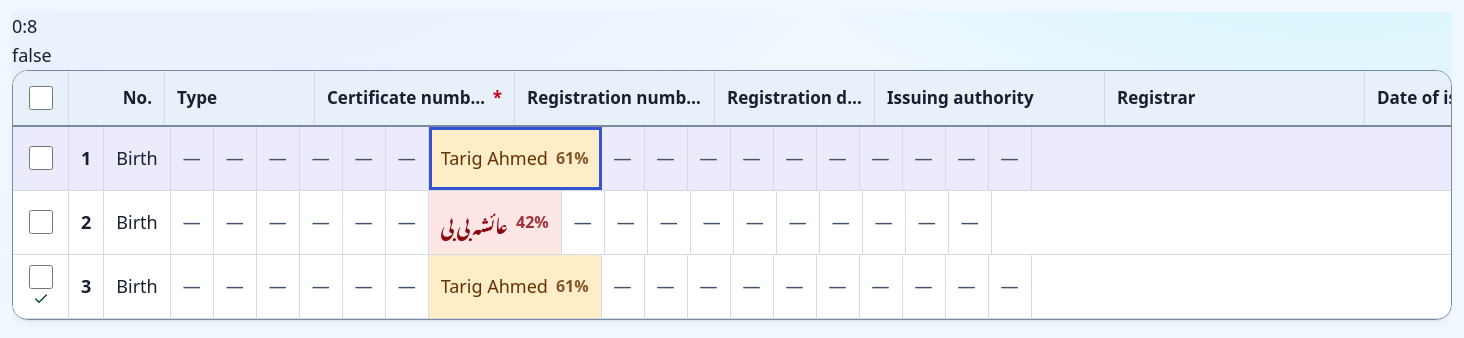
Test: ResultsGrid keyboard › opens the editor on Enter and closes it on Escape without saving
Press Enter in the table
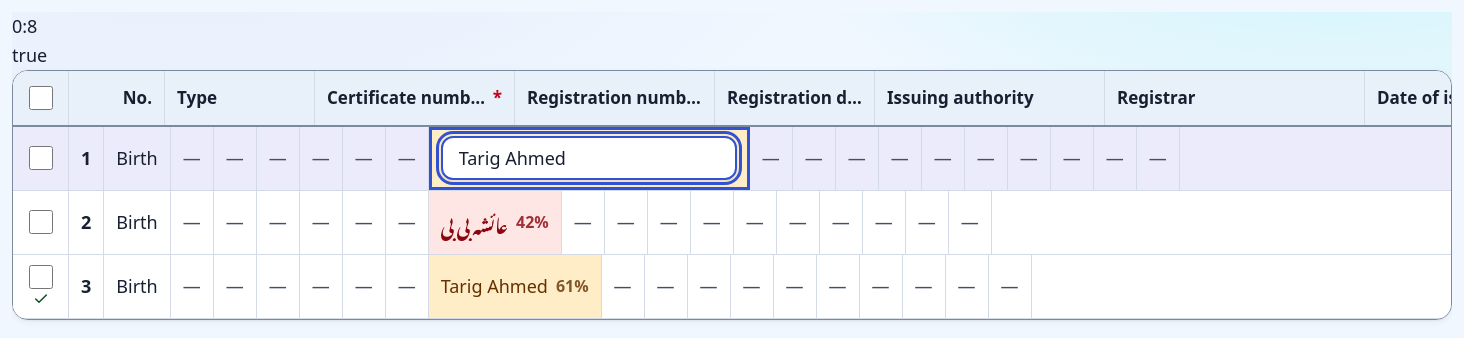
Check: the text with test id "editing" reads "true", box [12, 43, 47, 67]
Replace the text in the field with "Tariq Ahmed" at (589, 158), box [441, 136, 737, 180]
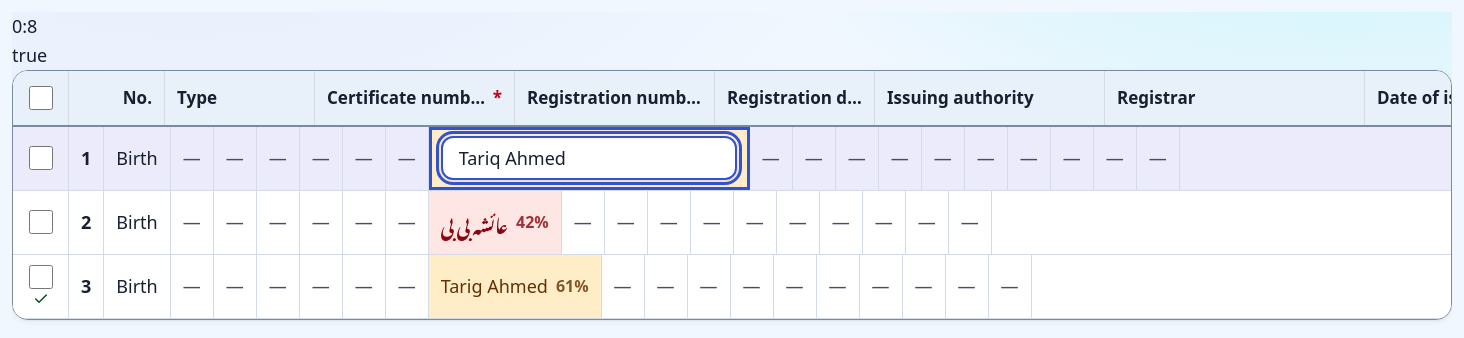
Press Escape in the field, box [441, 136, 737, 180]
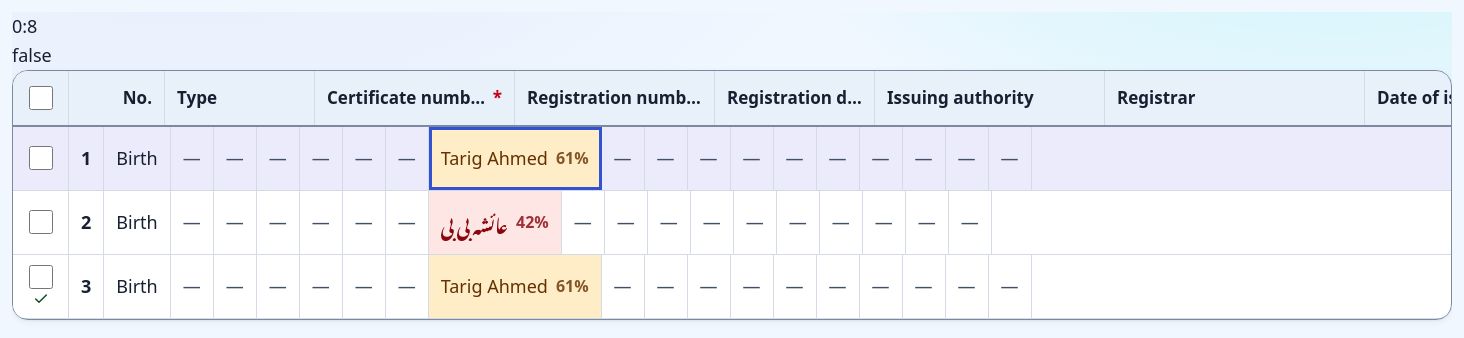
Check: the text with test id "editing" reads "false", box [12, 43, 52, 67]
